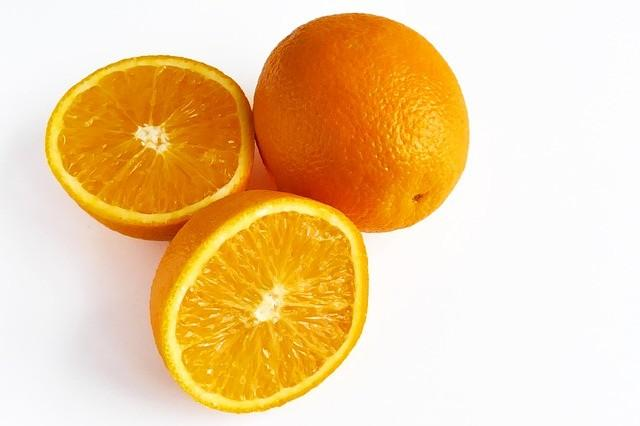orange: (144, 190, 378, 420), (259, 12, 475, 232), (54, 51, 255, 217)
